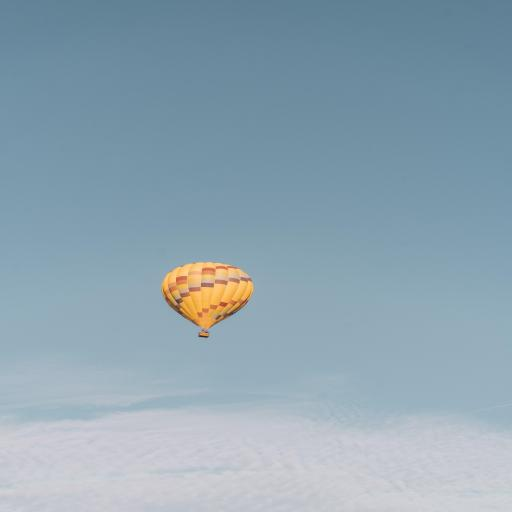hot air ballon: (160, 258, 256, 342)
